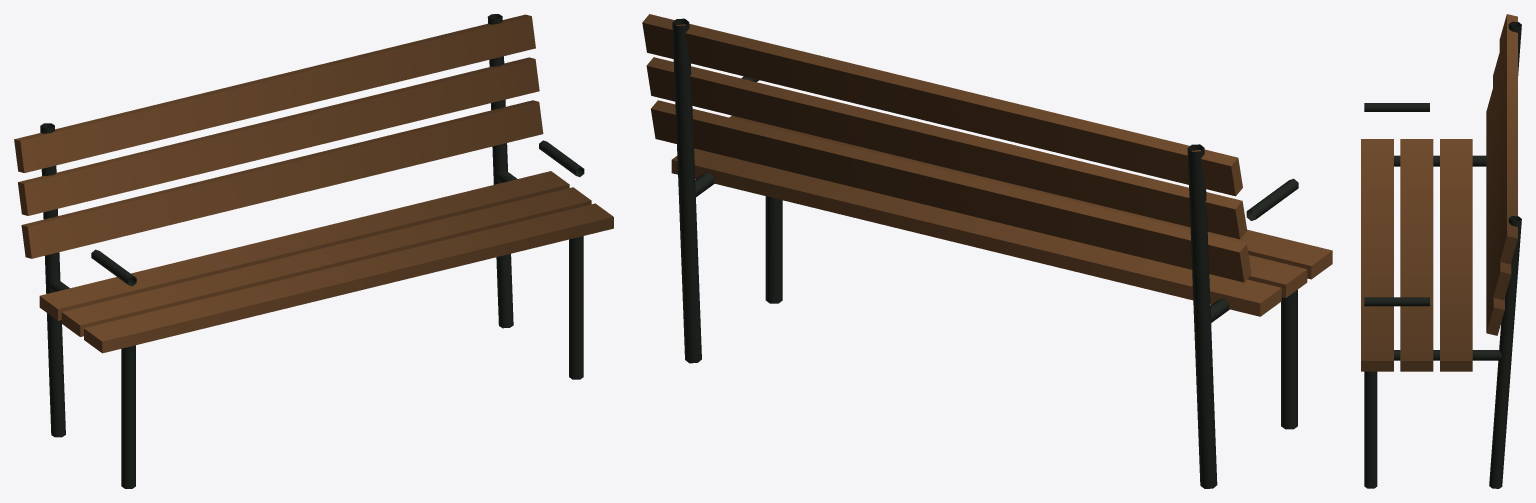
Rendered from Bench.glb.
3 views of the same model, side by side, from view 1: azimuth 30°, elevation 25°; view 2: azimuth 150°, elevation 25°; view 3: azimuth 270°, elevation 25° (orthographic). The views are drawn at different scales.
Parts seen in each view (by area): view 1: Slats, BenchIron; view 2: Slats, BenchIron; view 3: Slats, BenchIron.
Boxes of the visible parts, box(x1,y1,x2,y2) form: Slats: box(14, 14, 613, 353); BenchIron: box(40, 14, 584, 488); Slats: box(642, 14, 1332, 316); BenchIron: box(672, 18, 1298, 488); Slats: box(1361, 14, 1517, 371); BenchIron: box(1364, 21, 1521, 488).
Size of the model in its own units: 1.6 by 0.9027 by 0.49.
